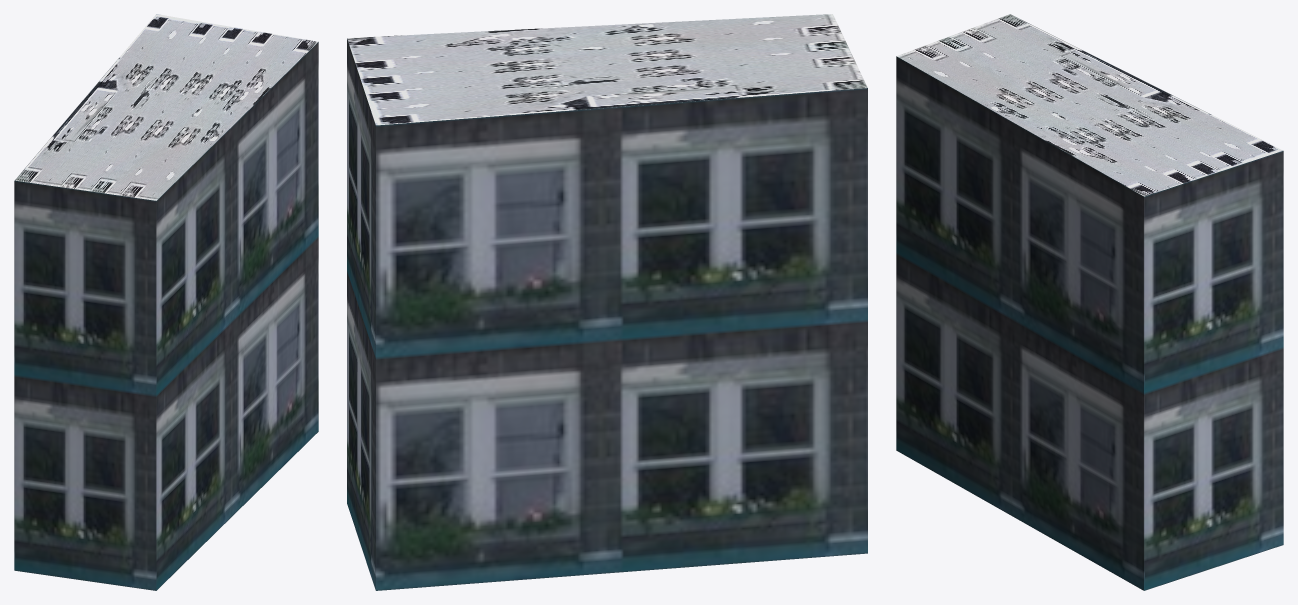
The model's file is ResTex__5257.fbx.
3 views of the same model, side by side, from view 1: azimuth 30°, elevation 25°; view 2: azimuth 150°, elevation 25°; view 3: azimuth 270°, elevation 25° (orthographic). The views are drawn at different scales.
Visible parts, largest first — view 1: CityEngineMaterial_11_m, CityEngineMaterial_4_m; view 2: CityEngineMaterial_11_m, CityEngineMaterial_4_m; view 3: CityEngineMaterial_11_m, CityEngineMaterial_4_m.
Part boxes in pixels (x1,y1,x2,y2): CityEngineMaterial_11_m: (14,42,318,590); CityEngineMaterial_4_m: (15,14,317,200); CityEngineMaterial_11_m: (347,38,867,590); CityEngineMaterial_4_m: (347,14,867,125); CityEngineMaterial_11_m: (896,56,1283,590); CityEngineMaterial_4_m: (897,14,1282,196).
Bounding box in the file's own units: 5.96 × 6 × 5.34.
Materials: 2 (2 with a texture image).
